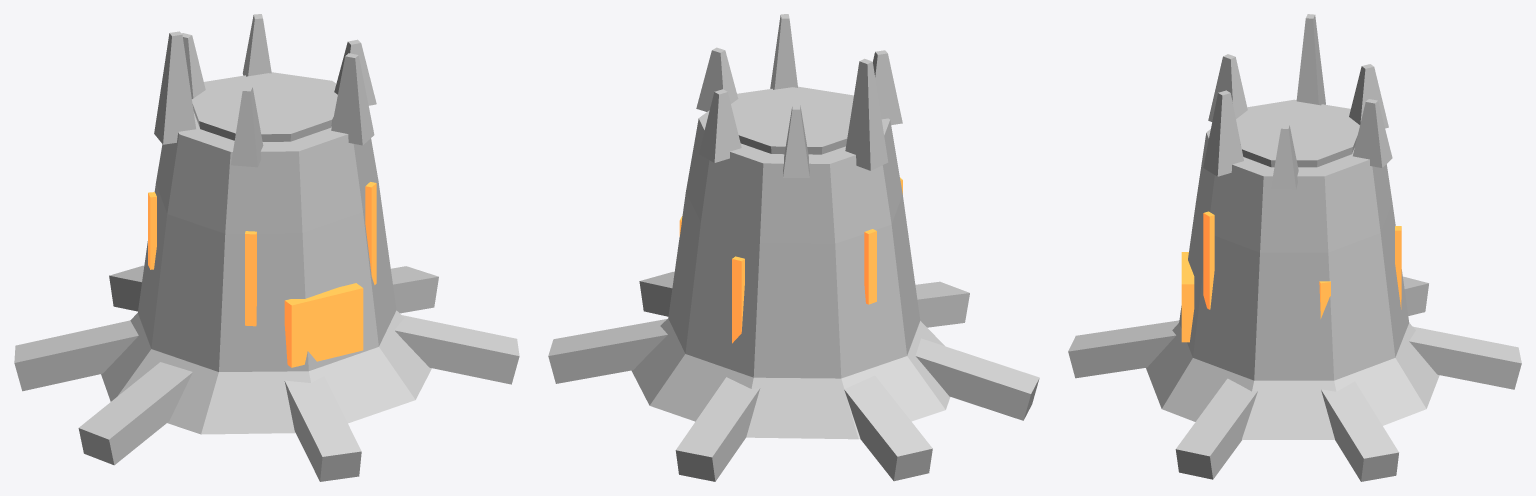
File: wisp_nest.glb
3 views of the same model, side by side, from view 1: azimuth 30°, elevation 25°; view 2: azimuth 150°, elevation 25°; view 3: azimuth 270°, elevation 25° (orthographic). The views are drawn at different scales.
Parts seen in each view (by area): view 1: wisp_nest; view 2: wisp_nest; view 3: wisp_nest.
Part boxes in pixels (x1,y1,x2,y2): wisp_nest: (14,14,519,481); wisp_nest: (548,14,1039,481); wisp_nest: (1068,14,1521,481).
Bounding box in the file's own units: 2.14 × 1.75 × 2.14.
